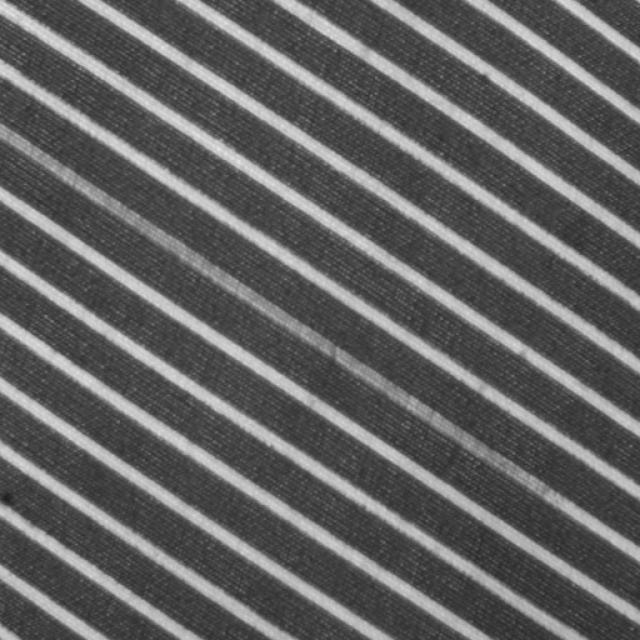Stain-Defect: (0, 119, 579, 515)
